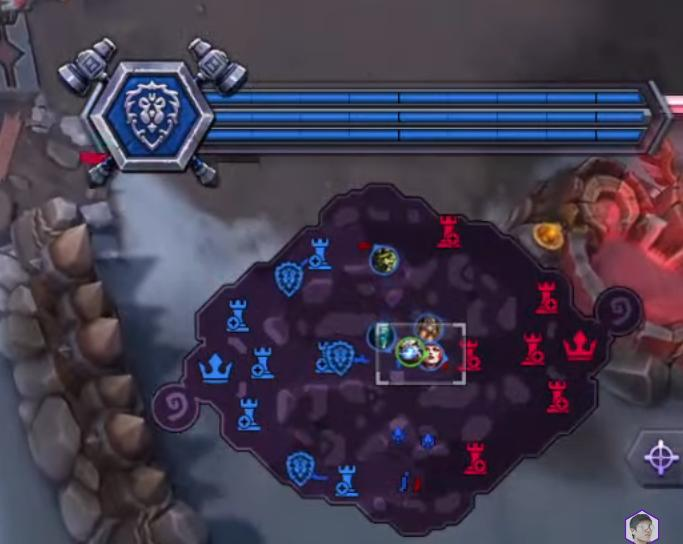blue player: (368, 243, 400, 276), (414, 312, 443, 342), (366, 320, 394, 351)
